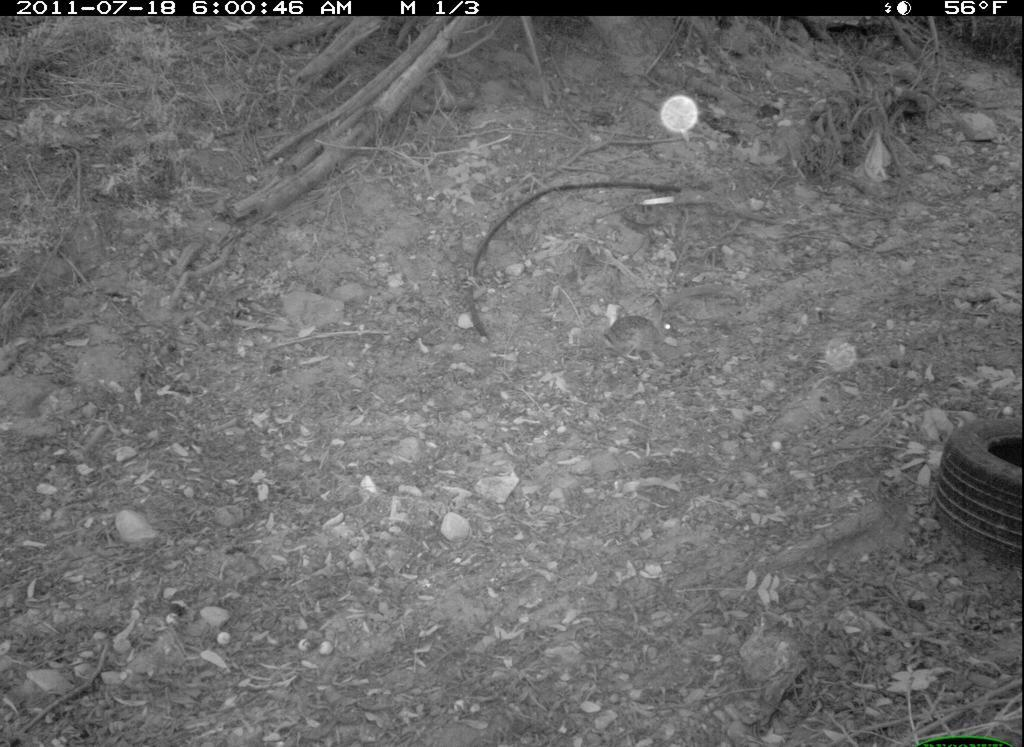rabbit: (597, 295, 679, 364)
